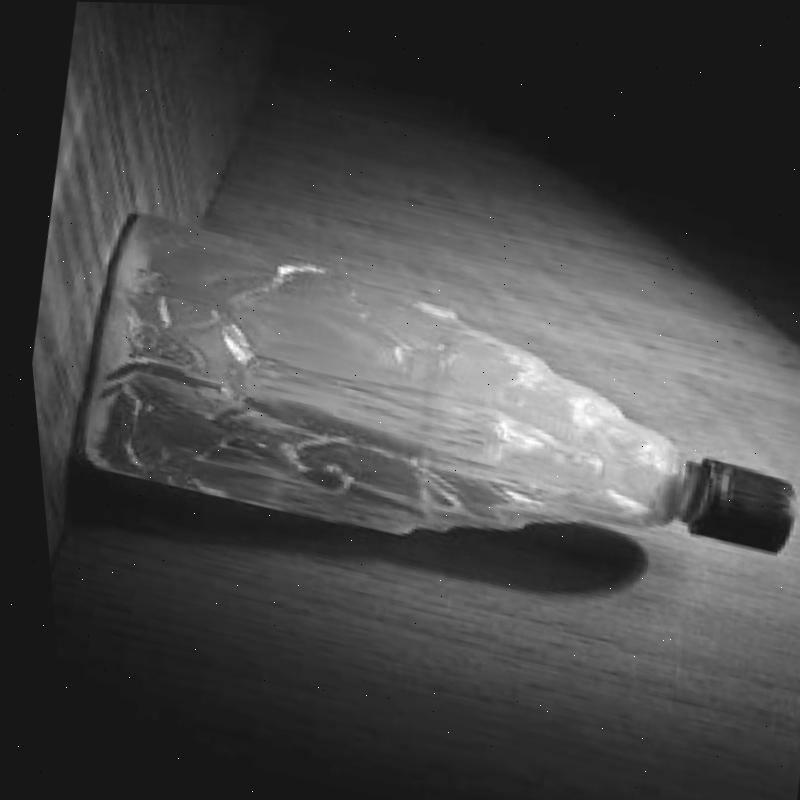botella: (57, 194, 800, 632)
